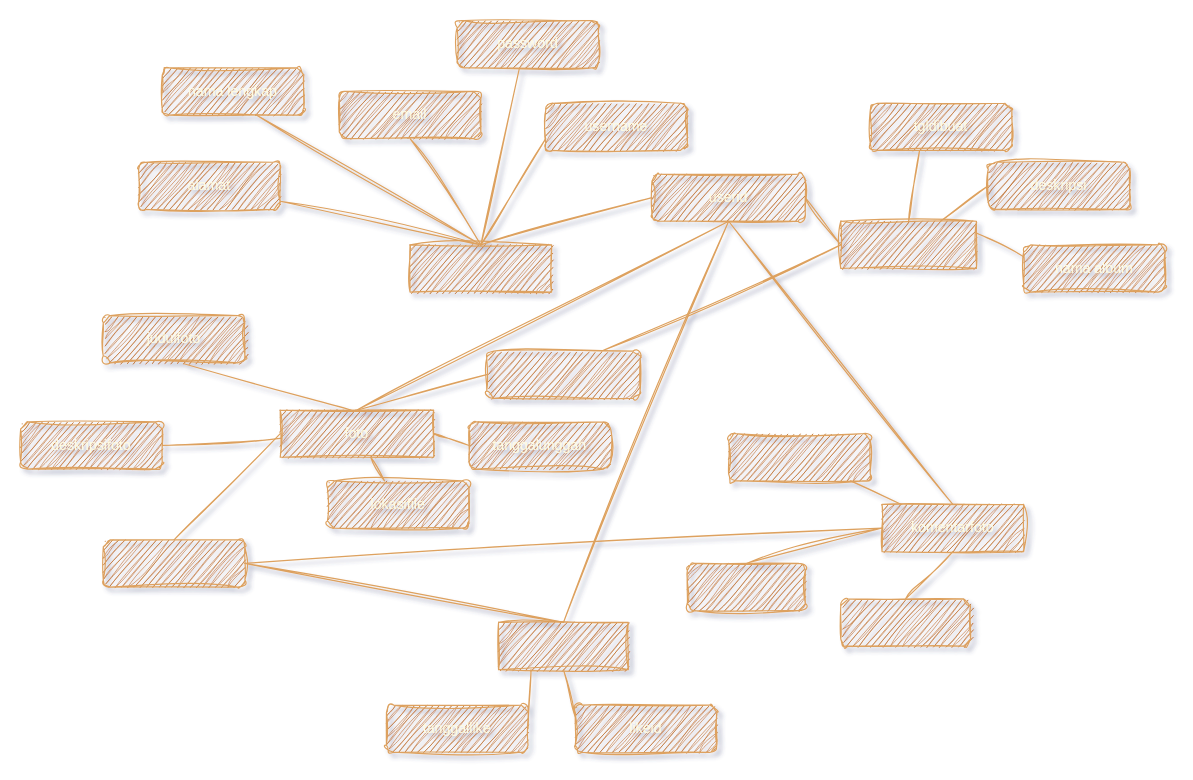
This 1193x780 diagram has some shape labels left out. The shapes that lost their labels are listed below. From the top down, each one's box as (x1, y1, x2, y2) in pixels, then its label:
(840, 220, 976, 268): album
(409, 244, 552, 292): user
(486, 350, 640, 398): albumid
(727, 432, 870, 481): tanggalkomentar
(102, 539, 245, 587): fotoid
(686, 562, 805, 611): komentarid
(840, 598, 971, 646): isikomentar
(497, 621, 628, 670): likefoto
